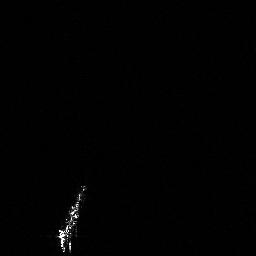ship: (53, 183, 90, 254)
